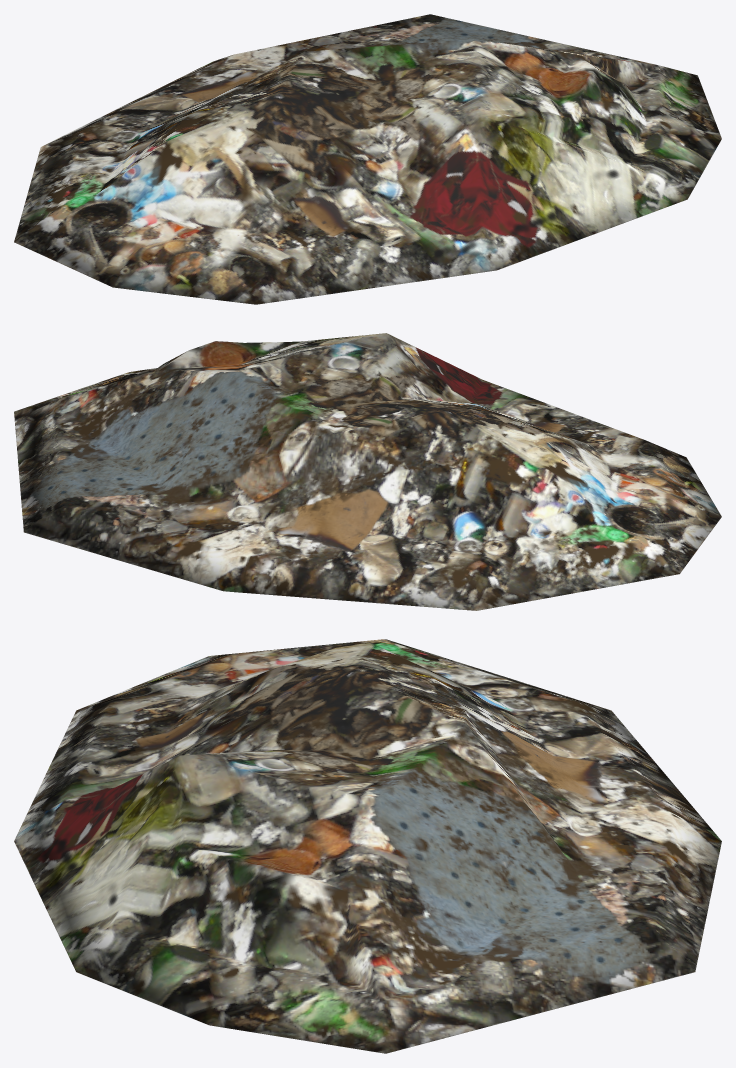
The model's file is TrashPile01.fbx.
3 renders of one model, top to bottom at view 1: azimuth 30°, elevation 25°; view 2: azimuth 150°, elevation 25°; view 3: azimuth 270°, elevation 25°, orthographic. The views are drawn at different scales.
Visible parts, largest first — view 1: TrashPile01; view 2: TrashPile01; view 3: TrashPile01.
Boxes of the visible parts, box(x1,y1,x2,y2) form: TrashPile01: box(14, 14, 721, 304); TrashPile01: box(14, 333, 721, 610); TrashPile01: box(14, 639, 721, 1053).
Bounding box in the file's own units: 196 × 26.4 × 142.
